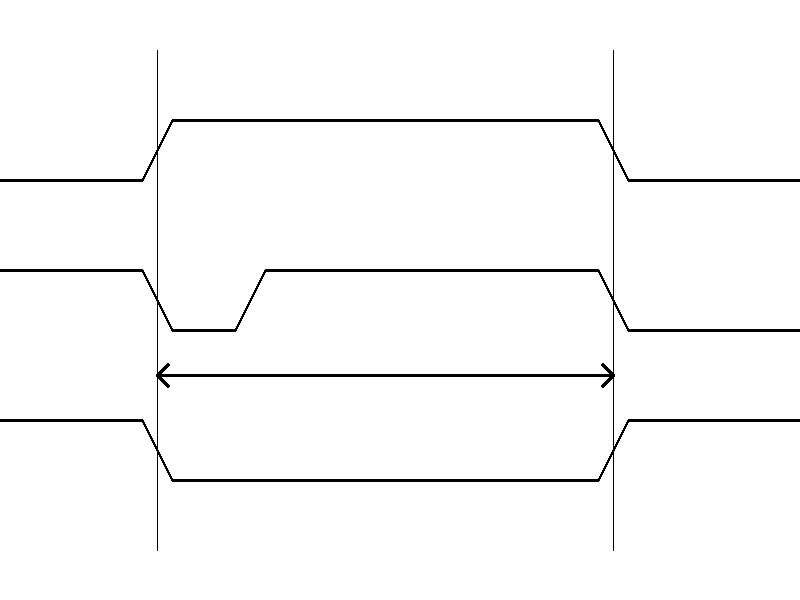double_arrow: (157, 360, 613, 390)
